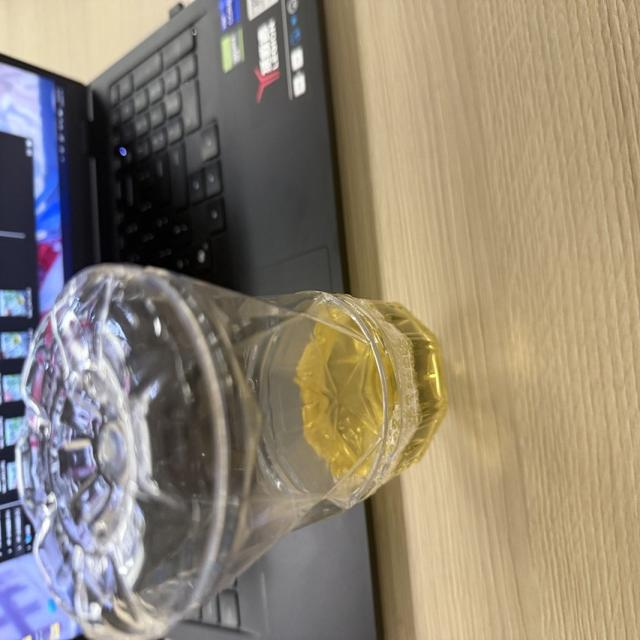low: (17, 264, 445, 639)
